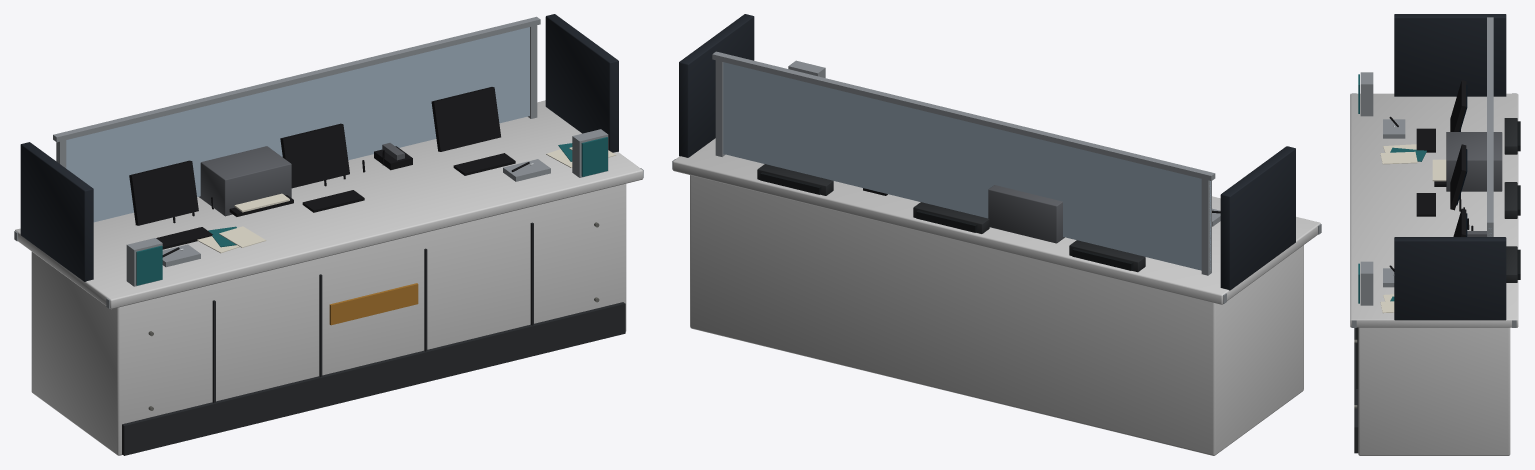
File: hm_bank_teller_counter_v2.obj
3 renders of one model, left to right at view 1: azimuth 30°, elevation 25°; view 2: azimuth 150°, elevation 25°; view 3: azimuth 270°, elevation 25°, orthographic. The views are drawn at different scales.
Visible parts, largest first — view 1: TC_Base, TC_Top, TC_Glass, TC_Kick, TC_Wing_-1.65, TC_Wing_1.65, TC_GTop, TC_Printer, TC_Mon_0, TC_Mon_2, TC_Mon_1, TC_Logo (+9 smaller); view 2: TC_Base, TC_Glass, TC_Top, TC_Wing_-1.65, TC_Wing_1.65, TC_GTop, TC_Printer, TC_GPost_-1.48, TC_GPost_1.48, TC_Slot_2, TC_Slot_0, TC_Slot_1; view 3: TC_Top, TC_Base, TC_Wing_1.65, TC_Wing_-1.65, TC_Printer, TC_GTop, TC_Mon_1, TC_Brochure_0, TC_Brochure_1, TC_Mon_0, TC_Slot_1, TC_Slot_0 (+10 smaller).
Boxes of the visible parts, x1,y1,x2,y2 form: TC_Base: [31, 183, 626, 455]; TC_Top: [15, 100, 642, 309]; TC_Glass: [58, 27, 529, 222]; TC_Kick: [122, 302, 625, 455]; TC_Wing_-1.65: [20, 142, 93, 281]; TC_Wing_1.65: [545, 14, 618, 152]; TC_GTop: [53, 16, 540, 142]; TC_Printer: [199, 146, 291, 216]; TC_Mon_0: [129, 160, 198, 225]; TC_Mon_2: [431, 87, 500, 151]; TC_Mon_1: [280, 123, 349, 188]; TC_Logo: [329, 283, 418, 325]; TC_Base: [690, 175, 1303, 455]; TC_Glass: [723, 62, 1210, 270]; TC_Top: [673, 138, 1320, 304]; TC_Wing_-1.65: [1220, 146, 1295, 290]; TC_Wing_1.65: [679, 14, 754, 157]; TC_GTop: [712, 51, 1215, 180]; TC_Printer: [988, 185, 1064, 243]; TC_GPost_-1.48: [1201, 174, 1211, 275]; TC_GPost_1.48: [715, 56, 725, 156]; TC_Slot_2: [757, 164, 833, 195]; TC_Slot_0: [1069, 240, 1145, 272]; TC_Slot_1: [913, 202, 989, 233]; TC_Top: [1350, 93, 1518, 327]; TC_Base: [1358, 327, 1510, 455]; TC_Wing_1.65: [1394, 237, 1506, 320]; TC_Wing_-1.65: [1394, 14, 1506, 96]; TC_Printer: [1446, 132, 1502, 191]; TC_GTop: [1487, 17, 1493, 227]; TC_Mon_1: [1450, 144, 1466, 210]; TC_Brochure_0: [1360, 72, 1373, 116]; TC_Brochure_1: [1360, 261, 1373, 305]; TC_Mon_0: [1450, 80, 1466, 131]; TC_Slot_1: [1504, 182, 1517, 218]; TC_Slot_0: [1504, 118, 1517, 154].
Bounding box in the file's own units: 3.36 × 1.58 × 1.06.
